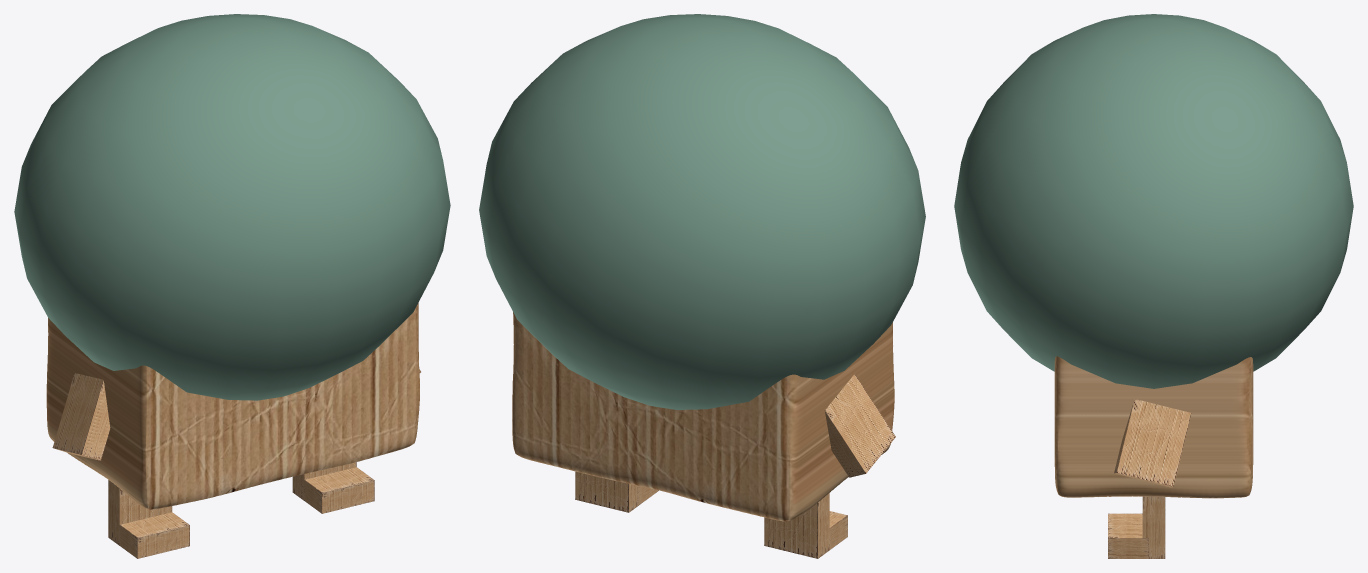
File: boxbb.fbx
3 renders of one model, left to right at view 1: azimuth 30°, elevation 25°; view 2: azimuth 150°, elevation 25°; view 3: azimuth 270°, elevation 25°, orthographic. The views are drawn at different scales.
Visible parts, largest first — view 1: Sphere, cube_5, Cube_3, Cube_7, Cube_6, Cube_1, Cube_2; view 2: Sphere, cube_5, Cube_3, Cube_1, Cube_2, Cube_6; view 3: Sphere, cube_5, Cube_5, Cube_7, Cube_2.
Part boxes in pixels (x1,y1,x2,y2): Sphere: (14,14,450,400); cube_5: (46,303,419,509); Cube_3: (52,373,110,460); Cube_7: (301,467,374,513); Cube_6: (119,512,189,558); Cube_1: (108,480,172,545); Cube_2: (292,462,356,500); Sphere: (479,14,925,409); cube_5: (512,312,894,521); Cube_3: (825,374,895,477); Cube_1: (764,493,829,558); Cube_2: (575,471,640,512); Cube_6: (829,511,847,549); Sphere: (954,14,1353,388); cube_5: (1054,356,1253,498); Cube_5: (1114,399,1191,487); Cube_7: (1108,513,1148,558); Cube_2: (1142,496,1165,558).
Size of the model in its own units: 200 by 238 by 185.
Materials: 6 (2 with a texture image).
